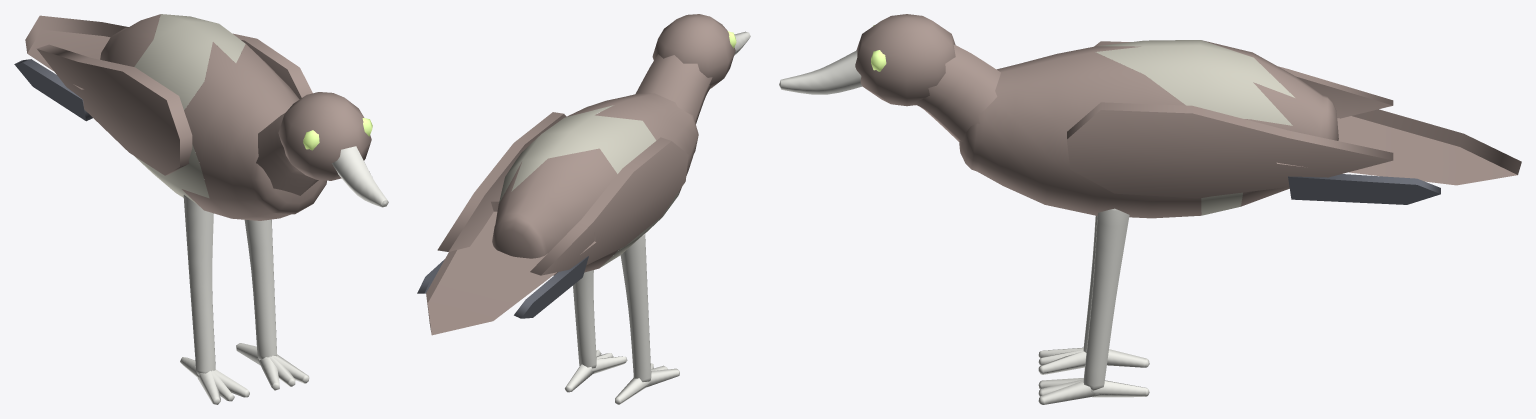
Rendered from undead-horde-and-infected-variants-infected-crow-d8838c10__12012.glb.
3 views of the same model, side by side, from view 1: azimuth 30°, elevation 25°; view 2: azimuth 150°, elevation 25°; view 3: azimuth 270°, elevation 25° (orthographic). The views are drawn at different scales.
Visible parts, largest first — view 1: infected-crow; view 2: infected-crow; view 3: infected-crow.
Part boxes in pixels (x1,y1,x2,y2): infected-crow: (14,14,388,404); infected-crow: (417,14,750,404); infected-crow: (779,14,1521,404).
Size of the model in its own units: 0.1002 by 0.2358 by 0.4367.
